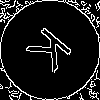K: (25, 25, 82, 80)
